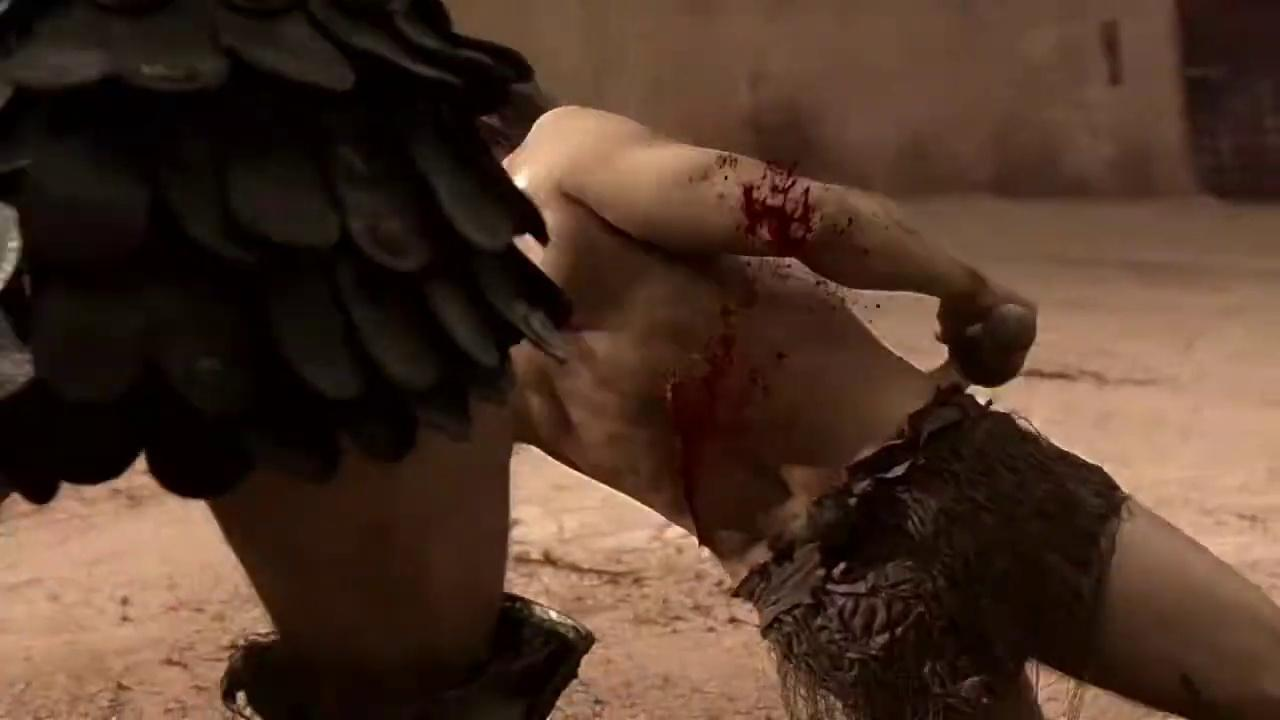Fire: (738, 160, 821, 256)
